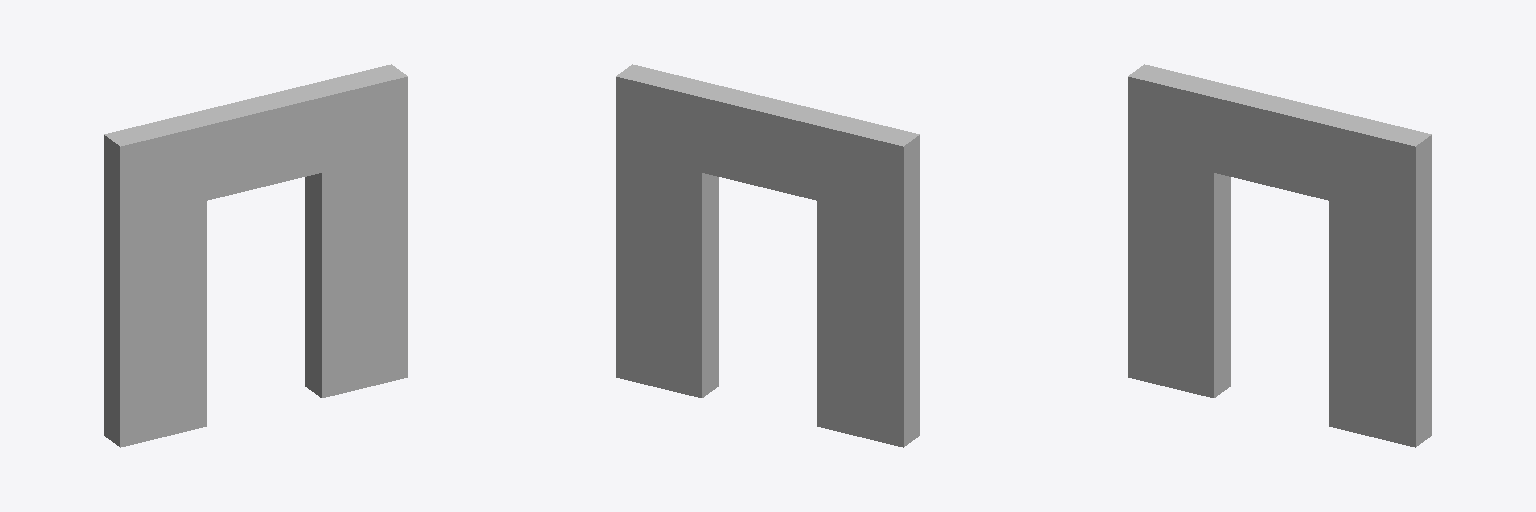
File: wall_door.obj
The picture shows the model from 3 angles: view 1: azimuth 30°, elevation 25°; view 2: azimuth 150°, elevation 25°; view 3: azimuth 330°, elevation 25°; orthographic projection.
Parts seen in each view (by area): view 1: mesh_0; view 2: mesh_0; view 3: mesh_0.
Boxes of the visible parts, x1,y1,x2,y2 form: mesh_0: [104, 64, 407, 447]; mesh_0: [616, 64, 919, 447]; mesh_0: [1128, 64, 1431, 447].
Bounding box in the file's own units: 1 × 1 × 0.1.